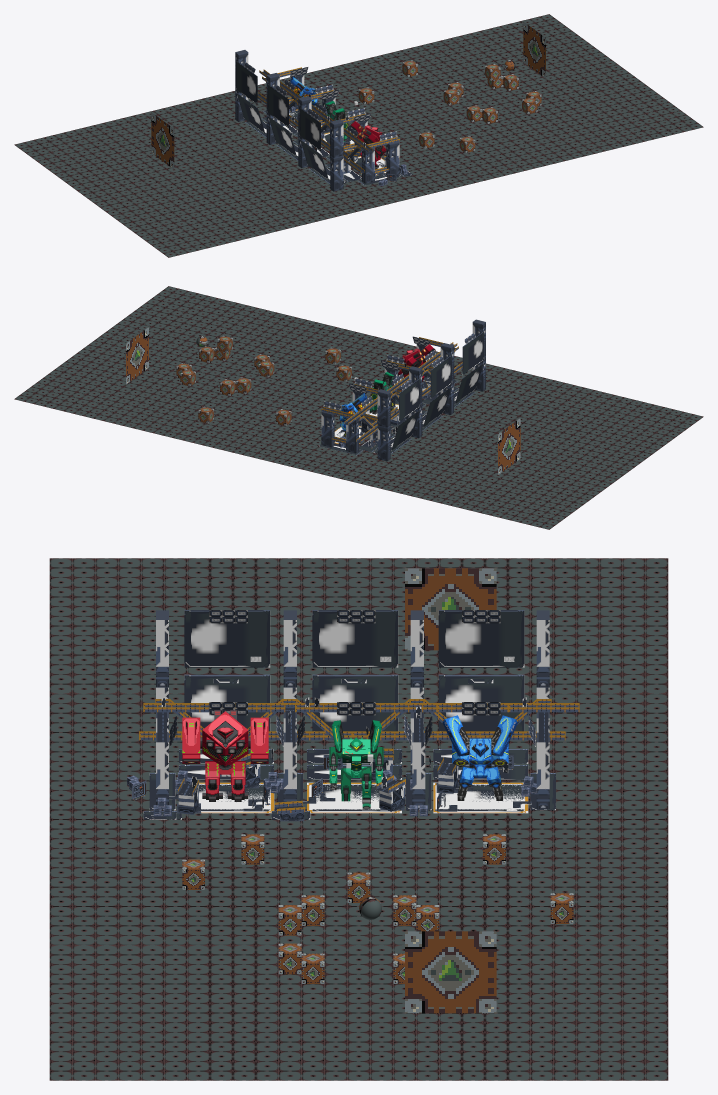
File: map01.gltf
3 renders of one model, top to bottom at view 1: azimuth 30°, elevation 25°; view 2: azimuth 150°, elevation 25°; view 3: azimuth 270°, elevation 25°, orthographic. The views are drawn at different scales.
Visible parts, largest first — view 1: Plane.006, Plane.035, Plane.036, Plane.005, Plane.151, Plane.149, Plane.150, OmegaXD, Cube.026, Cube.019, Plane.153, Plane.154 (+3 smaller); view 2: Plane.006, Plane.035, Plane.005, Plane.036, Plane.150, Plane.149, Plane.151, Cube.028, OmegaXD, Cube.017, Plane.153, Cube.014 (+4 smaller); view 3: Plane.006, Plane.035, Plane.005, OmegaXD, Plane.036, Plane.151, Plane.150, Plane.149, Plane.153, Plane.152, Cube.009, AlphaUWU (+13 smaller).
Boxes of the visible parts, x1,y1,x2,y2 form: Plane.006: [282, 14, 703, 192]; Plane.035: [14, 79, 435, 257]; Plane.036: [151, 112, 174, 169]; Plane.005: [523, 21, 545, 78]; Plane.151: [236, 61, 257, 104]; Plane.149: [299, 107, 320, 151]; Plane.150: [267, 84, 288, 127]; OmegaXD: [350, 121, 386, 169]; Cube.026: [330, 119, 343, 157]; Cube.019: [330, 155, 343, 191]; Plane.153: [268, 116, 296, 156]; Plane.154: [300, 139, 328, 180]; Plane.006: [14, 286, 435, 464]; Plane.035: [282, 351, 703, 529]; Plane.005: [126, 327, 148, 384]; Plane.036: [498, 418, 520, 474]; Plane.150: [430, 354, 452, 398]; Plane.149: [462, 331, 484, 374]; Plane.151: [399, 377, 420, 421]; Cube.028: [377, 389, 390, 427]; OmegaXD: [398, 344, 435, 382]; Cube.017: [377, 425, 390, 461]; Plane.153: [423, 386, 451, 427]; Cube.014: [321, 411, 334, 447]; Plane.006: [49, 819, 668, 1080]; Plane.035: [49, 558, 668, 819]; Plane.005: [405, 931, 496, 1013]; OmegaXD: [182, 710, 268, 801]; Plane.036: [405, 568, 496, 650]; Plane.151: [438, 610, 524, 667]; Plane.150: [312, 610, 398, 667]; Plane.149: [184, 610, 270, 667]; Plane.153: [312, 674, 398, 731]; Plane.152: [438, 674, 524, 731]; Cube.009: [442, 715, 517, 800]; AlphaUWU: [329, 720, 383, 809].
Size of the model in its own units: 108 by 13.1 by 54.
13 materials, 12 textured.
